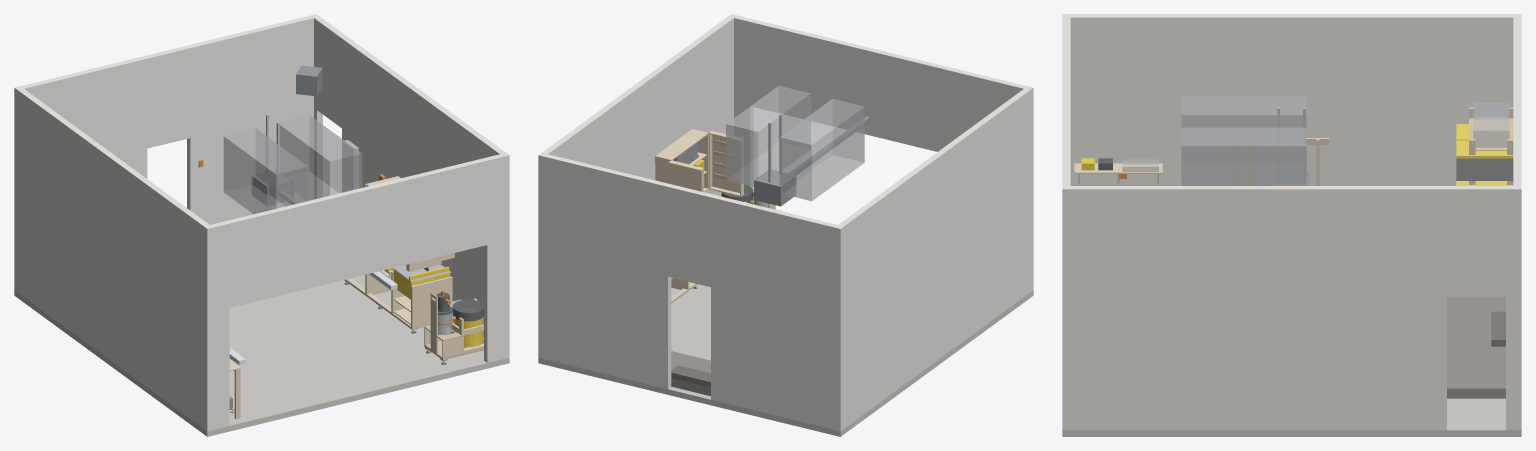
Rendered from garage-shop-open.glb.
3 views of the same model, side by side, from view 1: azimuth 30°, elevation 25°; view 2: azimuth 150°, elevation 25°; view 3: azimuth 270°, elevation 25° (orthographic). The views are drawn at different scales.
Visible parts, largest first — view 1: Wall West/west wall, Wall North/north wall, Slab/slab, Wall South/door header, Wall East/east wall, Bike Hoists/bike 1, Wall South/south return west, Bike Hoists/bike 2, Wall South/south return east, Flip Bench/end panel S, Garage Opener/motor, Heater/unit heater (+2 smaller); view 2: Wall North/north wall, Wall West/west wall, Wall South/door header, Wall East/east wall, Bike Hoists/bike 1, Bike Hoists/bike 2, Slab/slab, Wall South/south return east, Garage Opener/motor, Door South/face, Wall South/south return west, Landing/landing (+4 smaller); view 3: Wall East/east wall, Wall West/west wall, Bike Hoists/bike 1, Bike Hoists/bike 2, Landing/landing, Slab/slab, Wall North/north wall, Wall South/south return east, Bulk Rack/light bins, Bulk Rack/shelf 4, Wall South/door header, Bulk Rack/tote 3-2 (+5 smaller).
Boxes of the visible parts, box(x1,y1,x2,y2) form: Wall West/west wall: box(18, 89, 209, 428); Wall North/north wall: box(14, 14, 319, 292); Slab/slab: box(14, 275, 509, 436); Wall South/door header: box(226, 158, 487, 307); Wall East/east wall: box(314, 16, 505, 335); Bike Hoists/bike 1: box(223, 128, 308, 214); Wall South/south return west: box(204, 221, 229, 431); Bike Hoists/bike 2: box(279, 115, 362, 200); Wall South/south return east: box(484, 153, 509, 362); Flip Bench/end panel S: box(411, 276, 452, 327); Garage Opener/motor: box(252, 170, 293, 205); Heater/unit heater: box(296, 65, 322, 96); Wall North/north wall: box(538, 153, 843, 431); Wall West/west wall: box(838, 89, 1029, 428); Wall South/door header: box(750, 19, 1010, 151); Wall East/east wall: box(542, 16, 733, 196); Bike Hoists/bike 1: box(779, 98, 864, 201); Bike Hoists/bike 2: box(726, 85, 810, 186); Slab/slab: box(538, 282, 1033, 436); Wall South/south return east: box(728, 14, 753, 198); Garage Opener/motor: box(754, 169, 796, 206); Door South/face: box(712, 130, 743, 194); Wall South/south return west: box(1008, 82, 1033, 292); Landing/landing: box(671, 351, 710, 396); Wall East/east wall: box(1070, 186, 1513, 430); Wall West/west wall: box(1070, 14, 1513, 185); Bike Hoists/bike 1: box(1181, 96, 1306, 181); Bike Hoists/bike 2: box(1181, 127, 1306, 185); Landing/landing: box(1447, 296, 1505, 398); Slab/slab: box(1062, 398, 1521, 436); Wall North/north wall: box(1513, 14, 1521, 430); Wall South/south return east: box(1062, 176, 1070, 430); Bulk Rack/light bins: box(1473, 102, 1509, 147); Bulk Rack/shelf 4: box(1469, 117, 1513, 150); Wall South/door header: box(1062, 27, 1070, 176); Bulk Rack/tote 3-2: box(1456, 158, 1513, 180).
Size of the model in its own units: 225 by 148 by 249.
